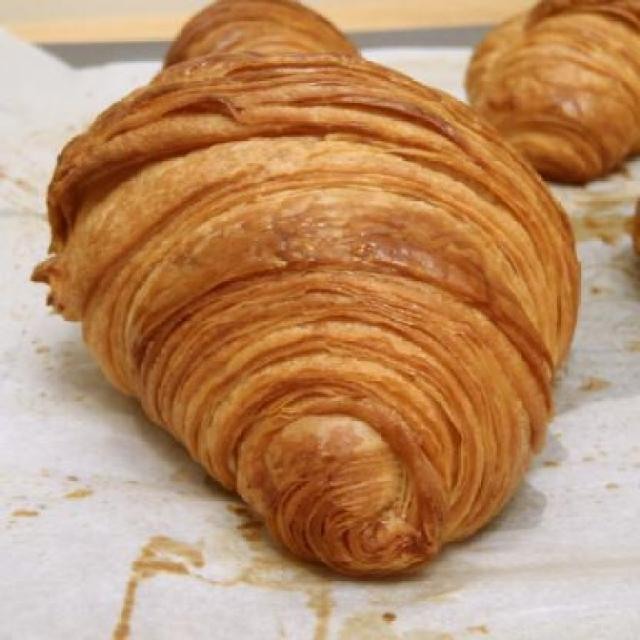Croissant: (27, 0, 580, 578), (467, 1, 640, 187)
